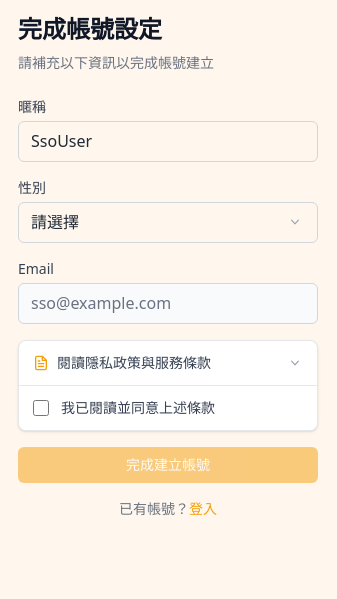
Scenario: RegisterPage – SSO mode (?sso=1) › shows error when ssoRegister fails
The image size is (337, 599).
Select "男" in the dropdown labelled "性別": (168, 222) [18, 202, 318, 243]
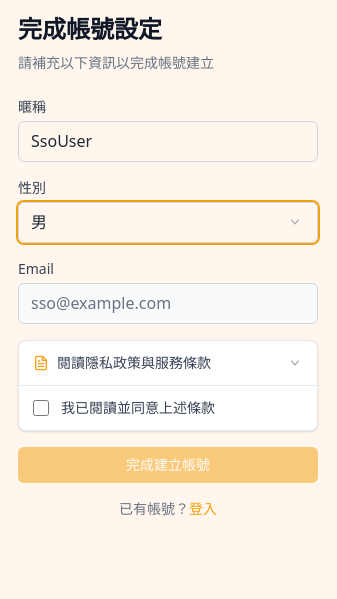
Click the checkbox labelled "我已閱讀並同意上述條款": (41, 408) [33, 400, 49, 416]
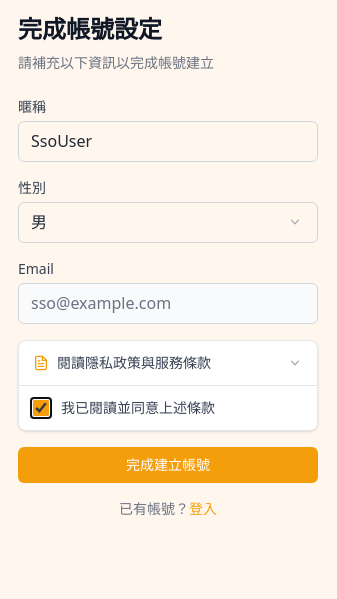
Click the button "完成建立帳號": (168, 464) [18, 446, 318, 482]
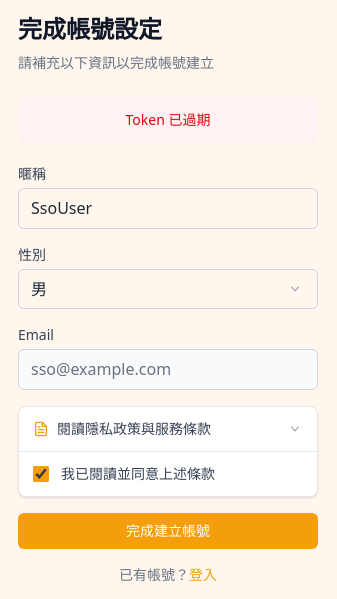
Expected: the text "Token 已過期" is shown, [18, 97, 318, 144]
